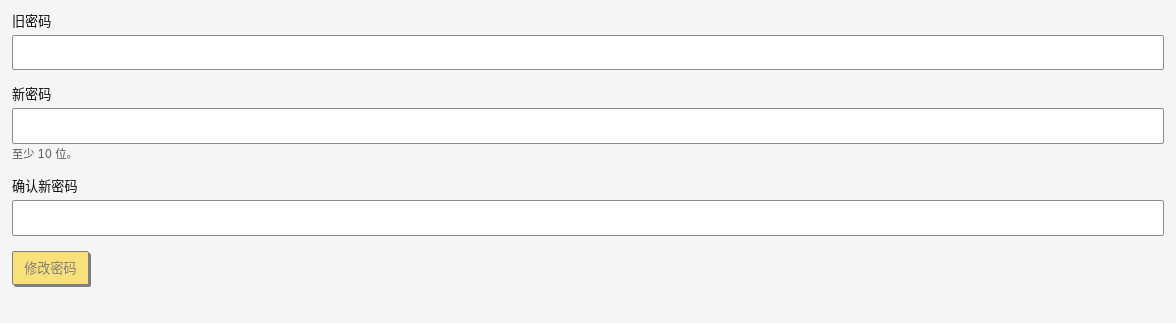
Scenario: 改密码表单：新密码过短与两次不一致的提示（中文）
Type "abc" into the password field labelled "新密码".
click(588, 126); type("abc")  # box left=12, top=108, right=1164, bottom=144
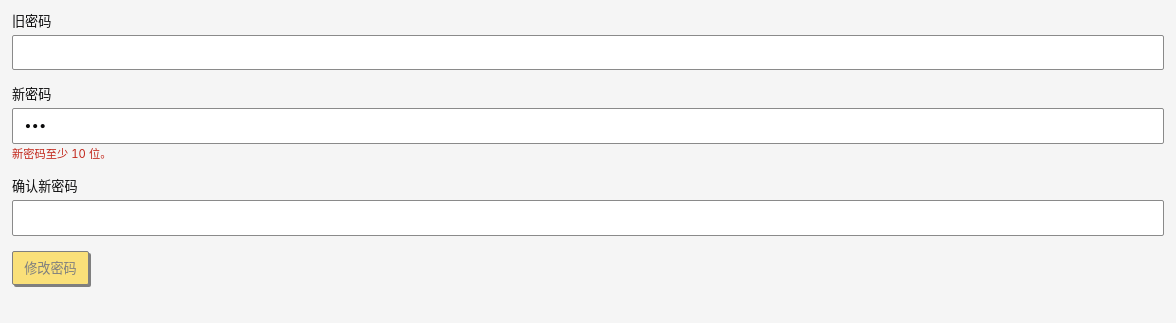
Check: the text "新密码至少 10 位。" is shown, box left=12, top=147, right=111, bottom=161
Type "abcdefghij" into the password field labelled "新密码".
click(588, 126); type("abcdefghij")  # box left=12, top=108, right=1164, bottom=144
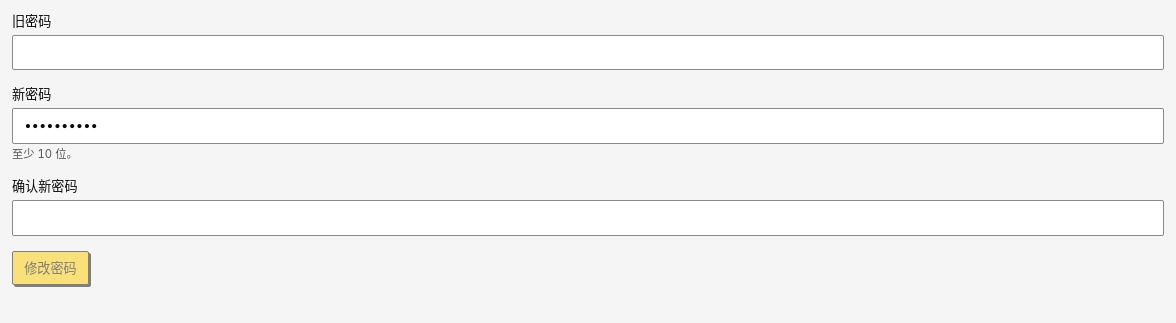
Type "x" into the password field labelled "确认新密码".
click(588, 218); type("x")  # box left=12, top=200, right=1164, bottom=236
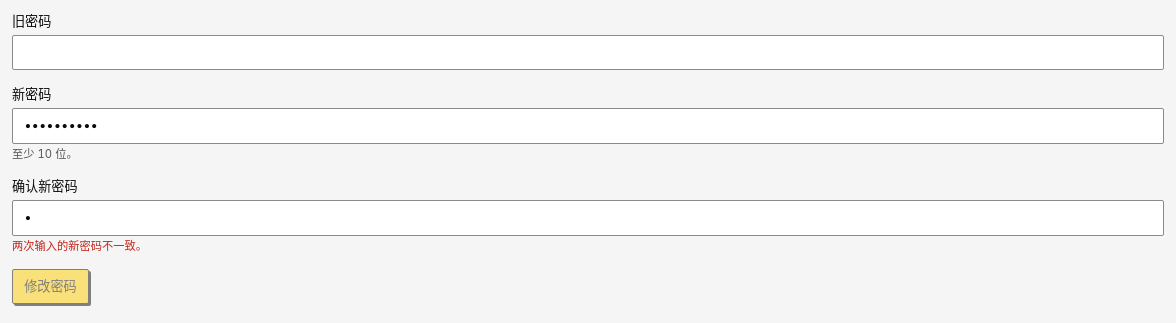
Check: the text "两次输入的新密码不一致。" is shown, box left=12, top=239, right=147, bottom=253
